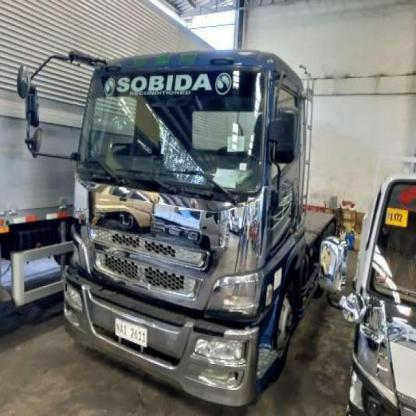truck: (15, 50, 339, 410)
